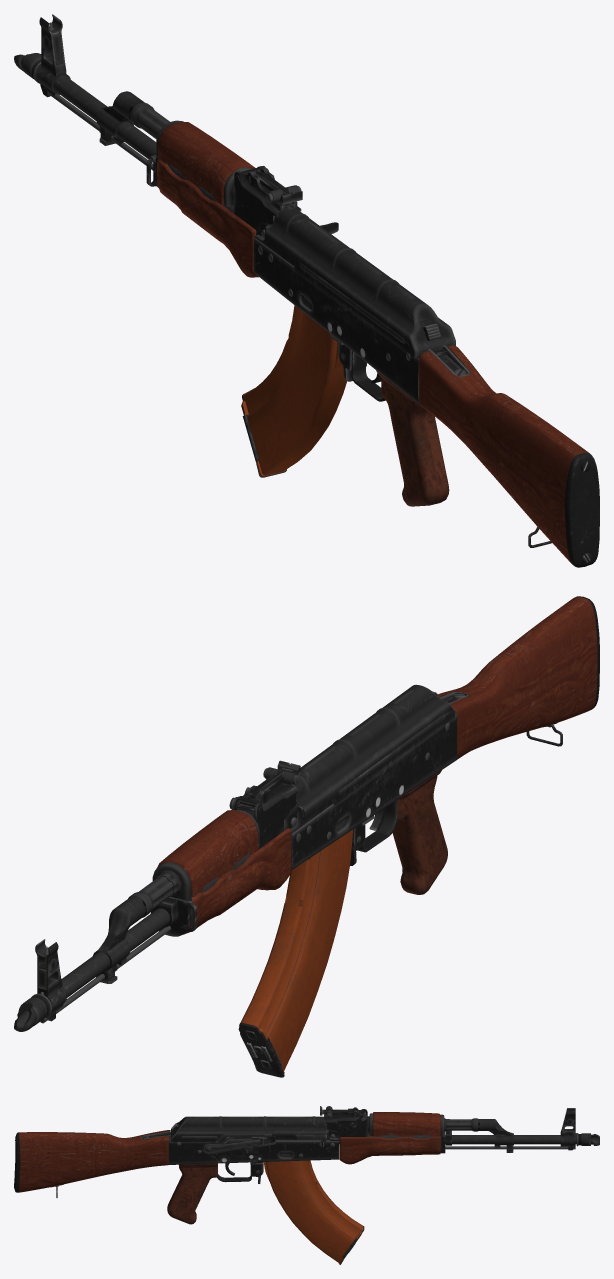
The model's file is akm.obj.
The picture shows the model from 3 angles, top to bottom: view 1: azimuth 30°, elevation 25°; view 2: azimuth 150°, elevation 25°; view 3: azimuth 270°, elevation 25°; orthographic projection. The views are drawn at different scales.
Parts seen in each view (by area): view 1: Body, Magazine; view 2: Body, Magazine; view 3: Body, Magazine.
Boxes of the visible parts, x1,y1,x2,y2 form: Body: (14,14,599,567); Magazine: (241,305,347,477); Body: (14,596,599,1031); Magazine: (238,829,353,1077); Body: (14,1106,599,1224); Magazine: (263,1160,364,1264).
Size of the model in its own units: 0.067 by 0.2544 by 0.88.
1 material, 1 textured.
